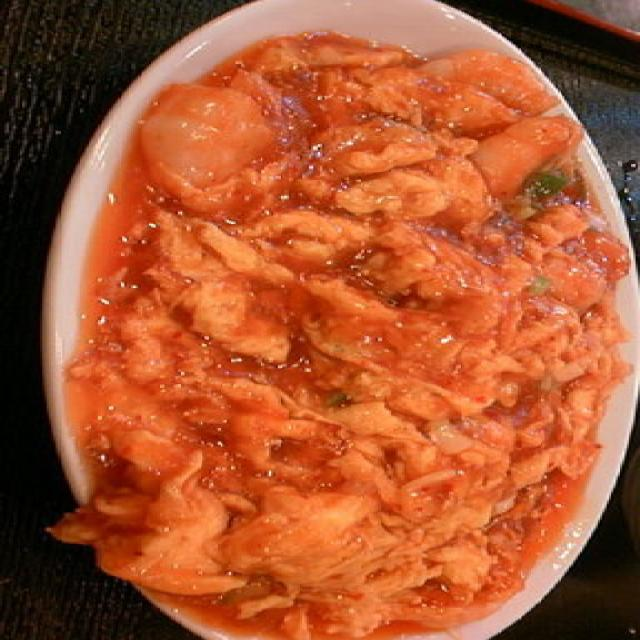熟制海鲜: (35, 0, 635, 637)
